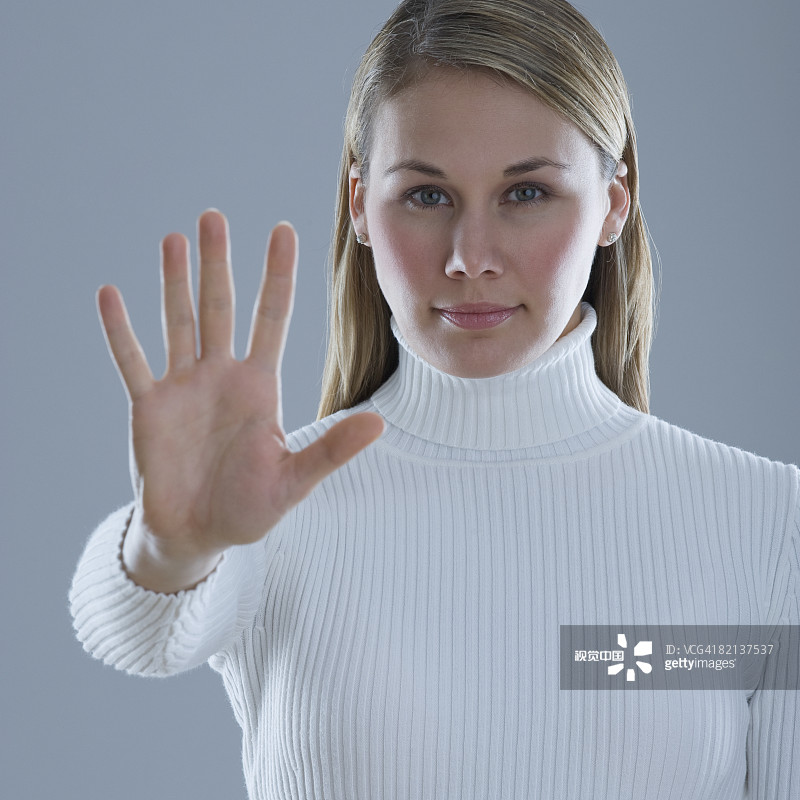no-phone: (76, 177, 398, 588)
